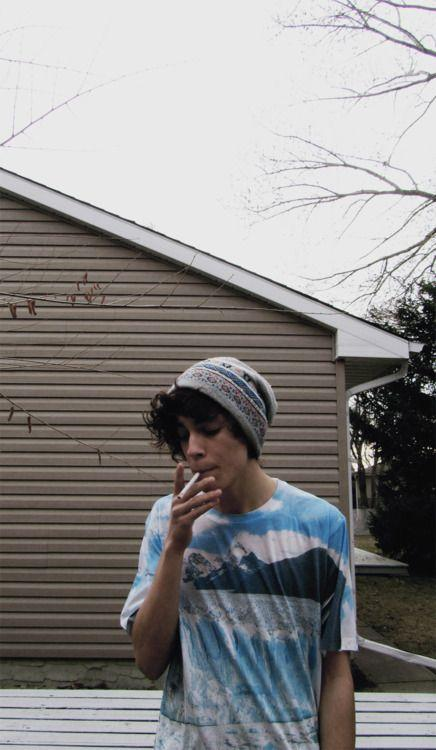cigarette: (177, 472, 200, 499)
